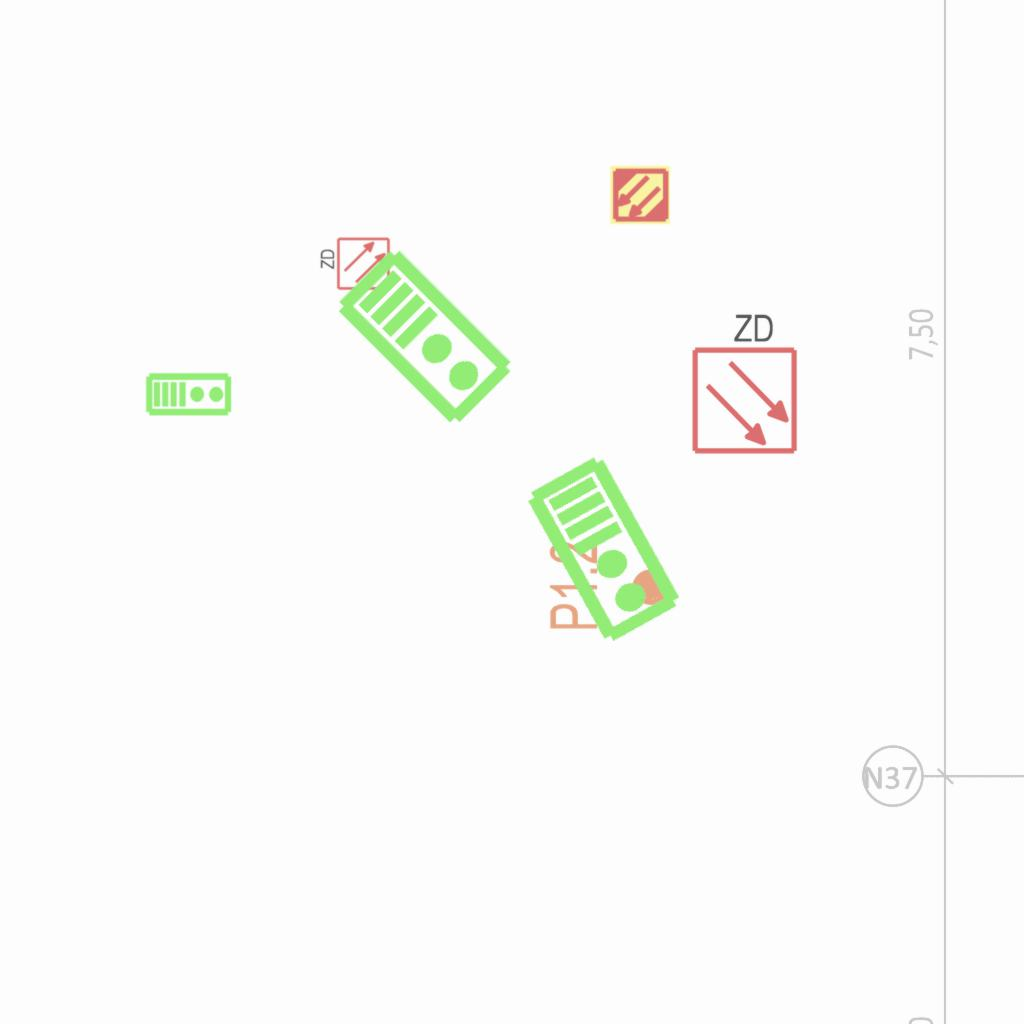ASR_Ansaugrauchmelder: (609, 164, 671, 226)
Downlight_LED_Einbauleuchten_Flur: (546, 539, 674, 632)
Gegensprechanlage_mit_Video: (330, 240, 523, 432), (521, 449, 690, 649), (145, 370, 233, 417)
ZD_Melder_in_Zwischendecke_mit_Revisionsoeffnung_mind_40_x_40_cm: (686, 307, 800, 456), (317, 236, 391, 293)
